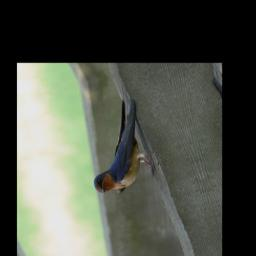Swallow: (64, 82, 164, 201)
